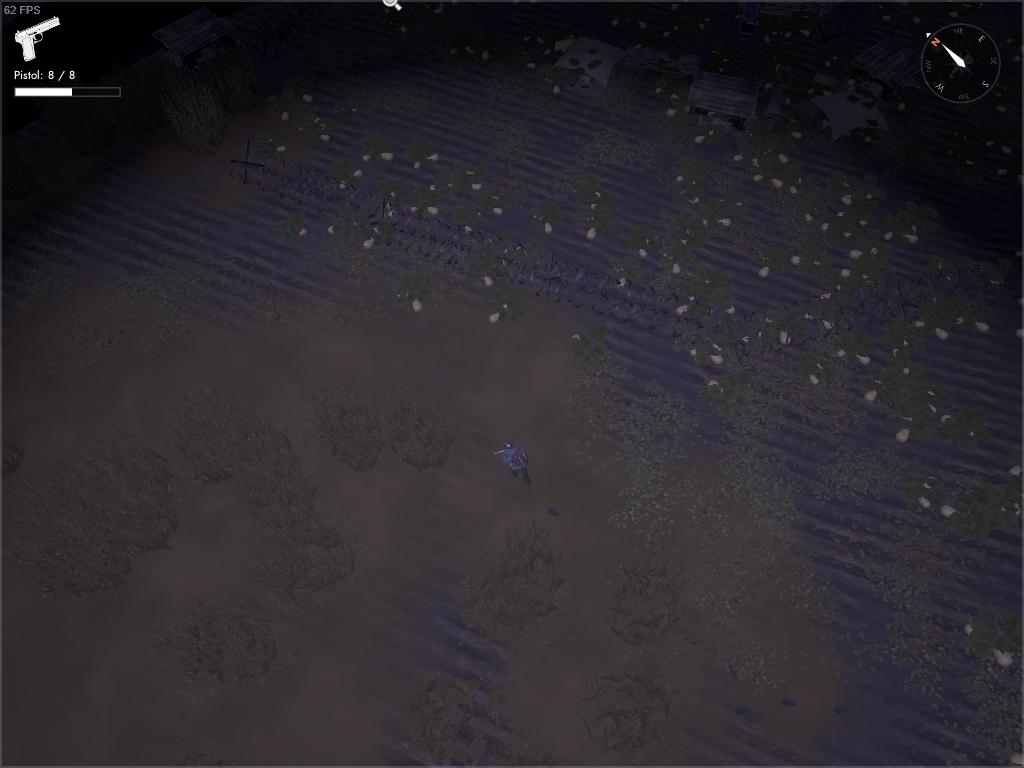foxhole: (796, 74, 906, 154), (538, 26, 631, 102)
pillbox: (142, 4, 244, 76), (675, 63, 769, 135), (846, 33, 932, 109)
player: (492, 437, 538, 487)
sandbag: (620, 41, 702, 81), (759, 61, 796, 131)
storage_box: (737, 1, 766, 37)
wire: (677, 264, 904, 385), (523, 248, 721, 347), (357, 187, 549, 288), (224, 136, 392, 233), (884, 244, 1024, 327)
